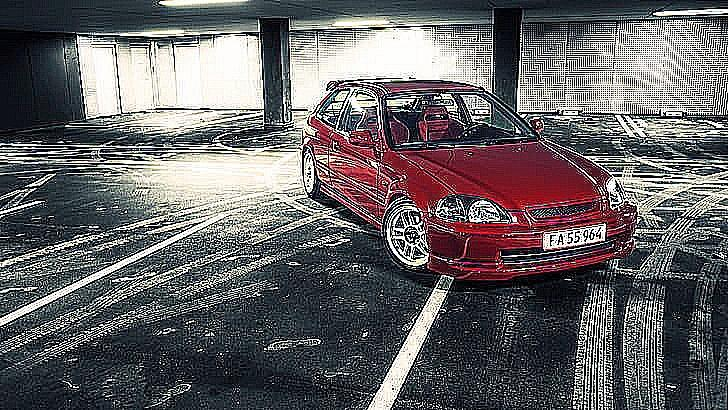Car hood: (392, 139, 613, 210)
Driver-s door - -F-R-: (328, 79, 391, 232)
Fender - -F-R-: (373, 143, 439, 237)
Fender - -R-R-: (301, 99, 330, 194)
Front bumper: (421, 198, 640, 282)
Headlight - -L-: (605, 172, 627, 211)
Headlight - -R-: (431, 193, 511, 227)
Side bumper - -R-: (316, 174, 381, 238)
Side mirror - -L-: (527, 115, 546, 138)
Side mirror - -R-: (345, 126, 381, 156)
